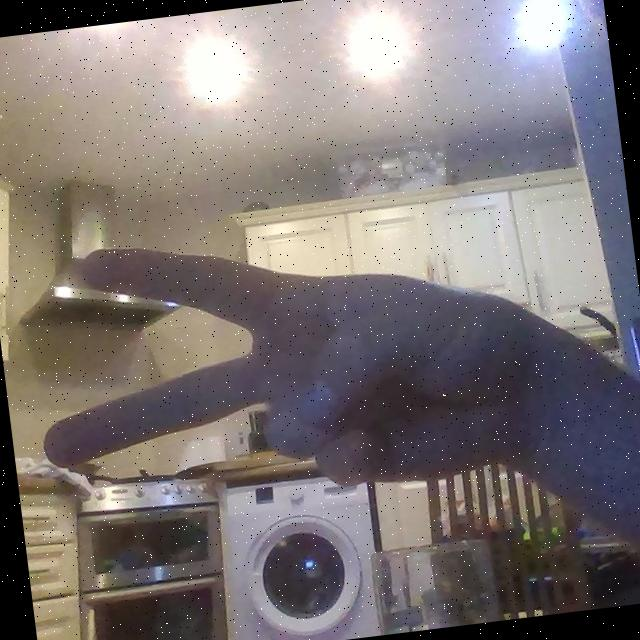scissors: (18, 196, 536, 519)
